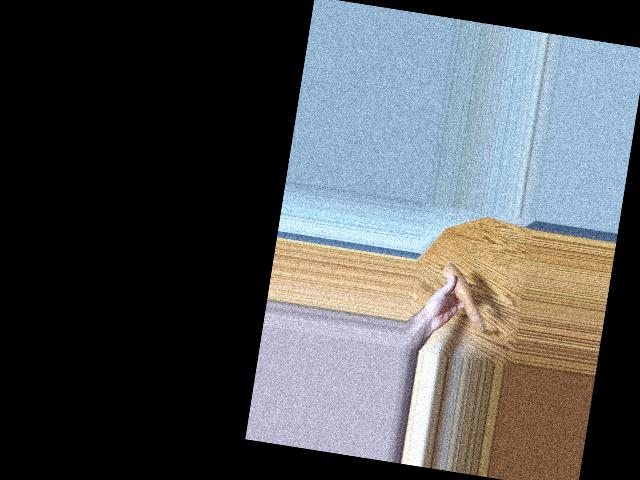sweet_potato: (433, 267, 491, 330)
